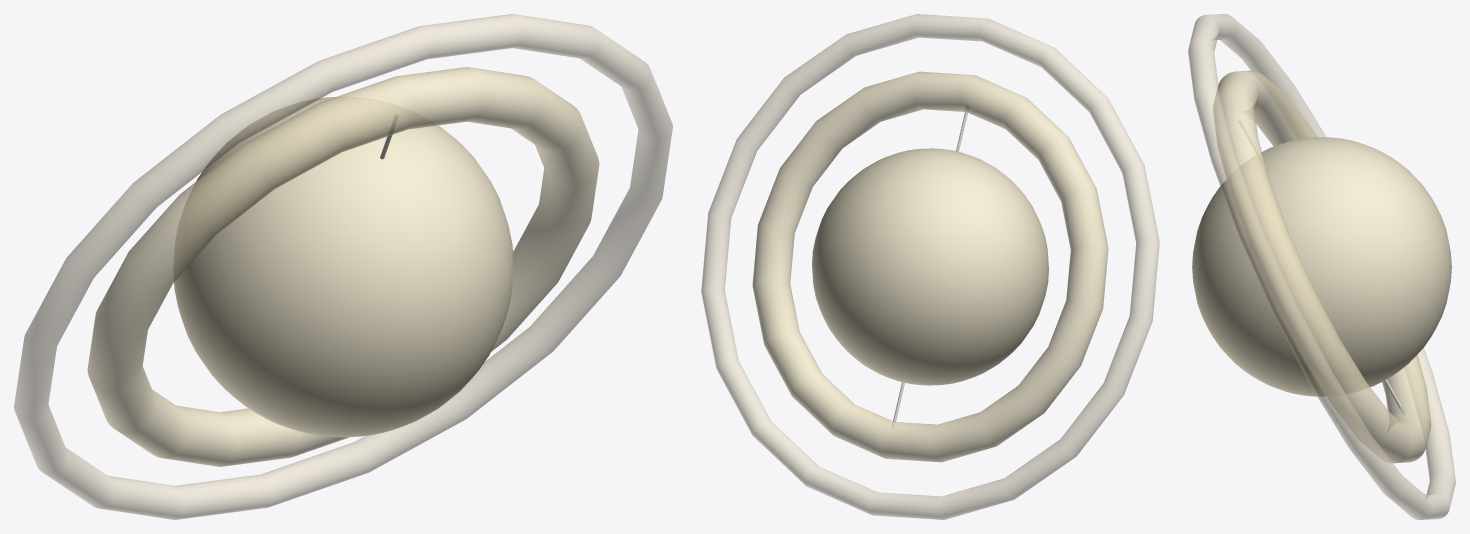
File: saturn.glb
The picture shows the model from 3 angles, left to right: view 1: azimuth 30°, elevation 25°; view 2: azimuth 150°, elevation 25°; view 3: azimuth 270°, elevation 25°; orthographic projection. The views are drawn at different scales.
Parts seen in each view (by area): view 1: saturn, saturn_rings_outer, saturn_rings_inner; view 2: saturn, saturn_rings_inner, saturn_rings_outer; view 3: saturn, saturn_rings_inner, saturn_rings_outer.
Part boxes in pixels (left/top/right/bottom): saturn: left=174, top=97, right=513, bottom=437; saturn_rings_outer: left=14, top=14, right=672, bottom=519; saturn_rings_inner: left=87, top=67, right=599, bottom=466; saturn: left=812, top=148, right=1048, bottom=385; saturn_rings_inner: left=752, top=71, right=1108, bottom=462; saturn_rings_outer: left=701, top=14, right=1159, bottom=519; saturn: left=1192, top=137, right=1451, bottom=396; saturn_rings_inner: left=1213, top=70, right=1431, bottom=463; saturn_rings_outer: left=1188, top=14, right=1455, bottom=519.
Size of the model in its own units: 1.4 by 1.26 by 0.6725.
